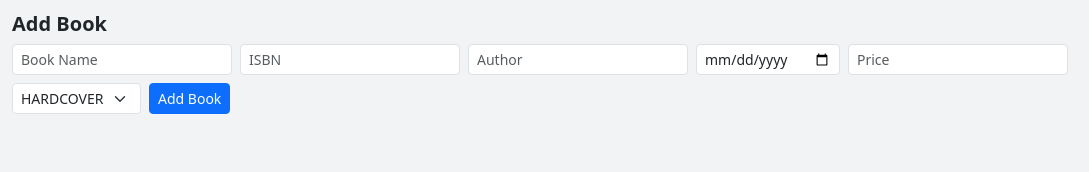
it: BookForm › crear: envía el libro por POST, avisa al padre y limpia el formulario
This screenshot has width=1089, height=172.
In the field labelled "Book Name": coordinates (122, 60) [12,44,232,75], type "El señor de los anillos"
In the field labelled "ISBN": coordinates (350, 60) [240,44,460,75], type "6565656"
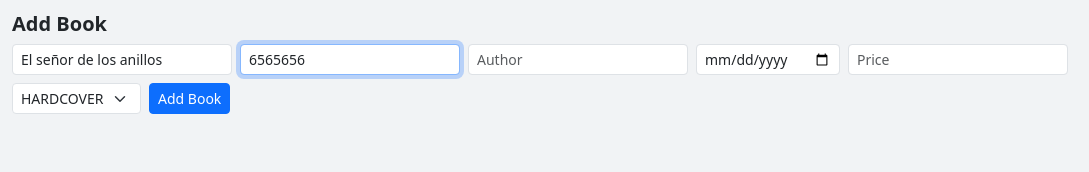
In the field labelled "Author": coordinates (578, 60) [468,44,688,75], type "J.R Tolinen"
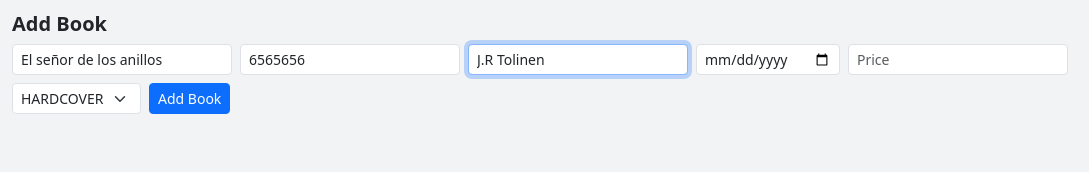
In the date field named "Publish Date": coordinates (768, 60) [696,44,840,75], type "2026-03-02"
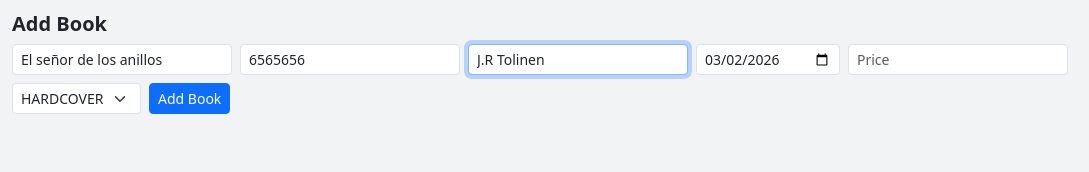
In the number field labelled "Price": coordinates (958, 60) [848,44,1068,75], type "5656"
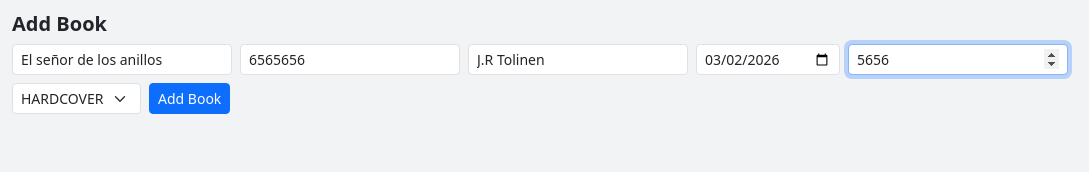
Select "SOFTCOPY" in the dropdown named "Type": coordinates (76, 98) [12,83,141,114]
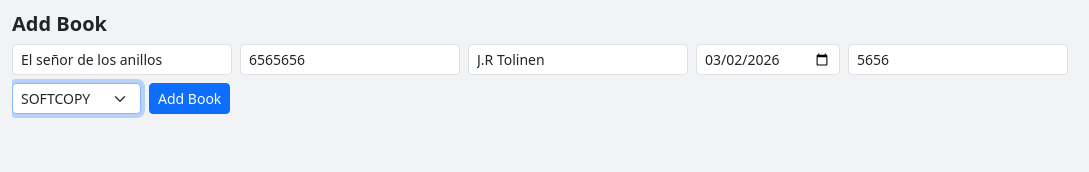
Click the button "Add Book": coordinates (190, 98) [149,83,230,114]
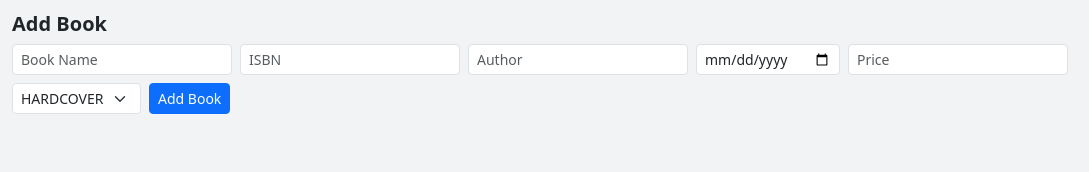
Check: the field labelled "Book Name" is empty, box [12,44,232,75]
Check: the number field labelled "Price" is not empty, box [848,44,1068,75]
